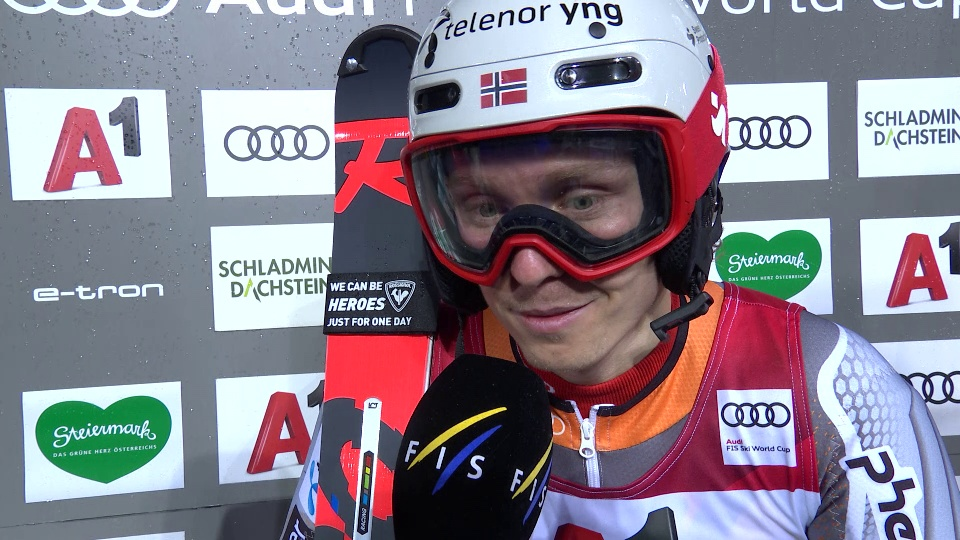a1: (36, 93, 158, 191), (239, 385, 334, 476), (877, 223, 959, 308)
audi: (219, 122, 335, 167), (713, 396, 801, 452), (9, 1, 174, 25), (728, 114, 813, 155), (905, 368, 959, 411)
etron: (24, 281, 178, 308)
schladming: (215, 240, 338, 315), (864, 99, 959, 163)
steiermark: (25, 393, 187, 492), (719, 227, 831, 291)
